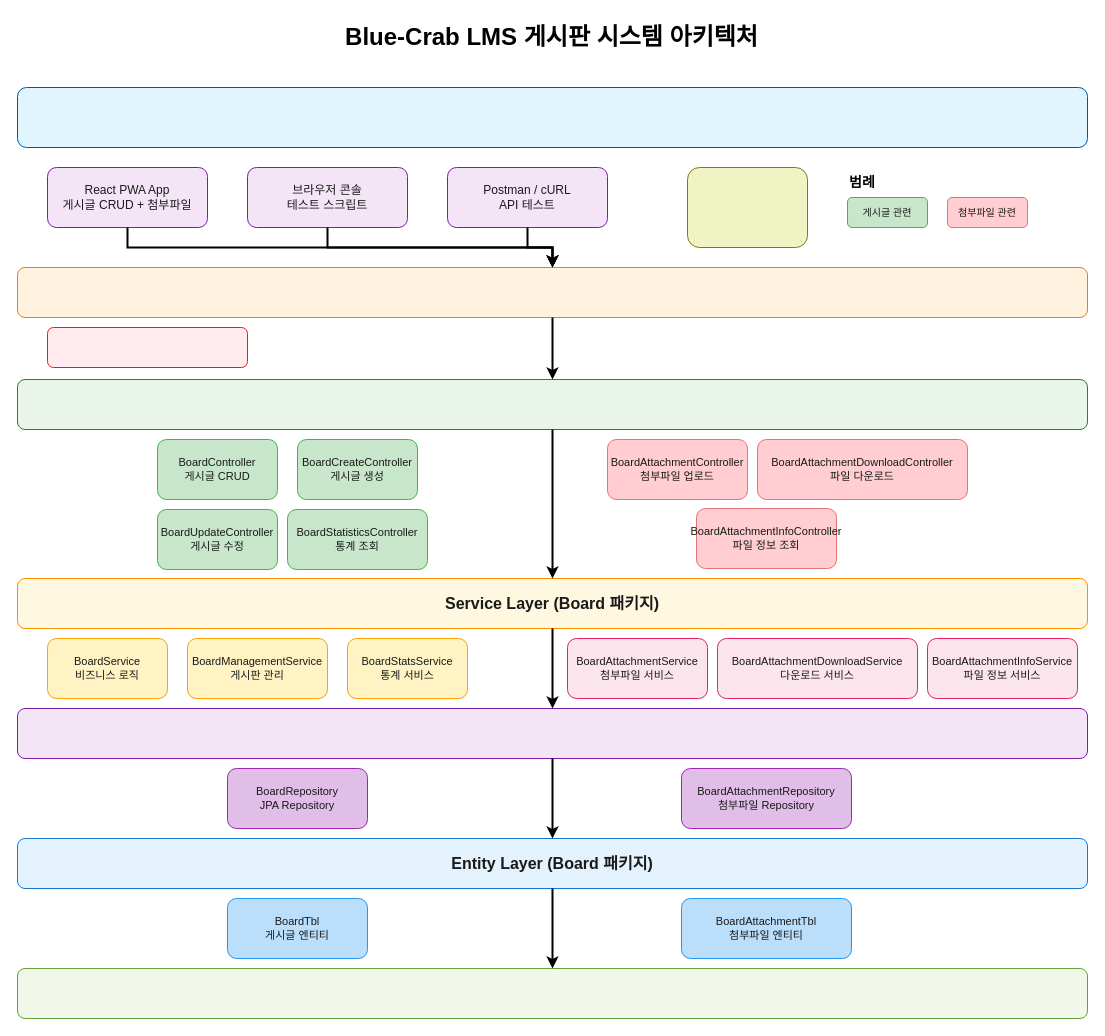
This 1105x1036 diagram has some shape labels left out. Here are the shapes that lost their labels. From the top down, the centre of each, then its label:
At point (552, 117): "클라이언트 레이어".
At point (747, 207): "게시판 타입 0: 학사공지 1: 행정공지 2: 기타공지 3: 강의공지".
At point (552, 292): "Spring Boot REST API Gateway".
At point (147, 347): "JWT Bearer Token 인증".
At point (552, 404): "Controller Layer (Board 패키지)".
At point (552, 733): "Repository Layer (Board 패키지)".
At point (552, 993): "MySQL / PostgreSQL Database".
